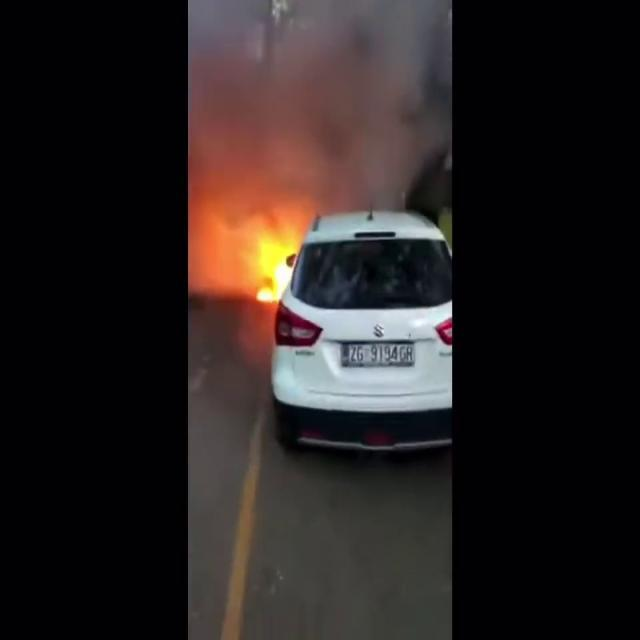Smoke: (188, 0, 450, 220)
